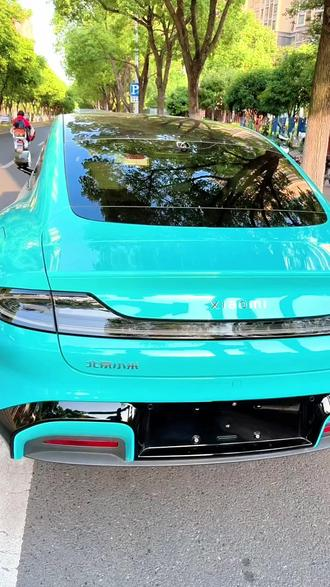su7: (1, 108, 330, 475)
